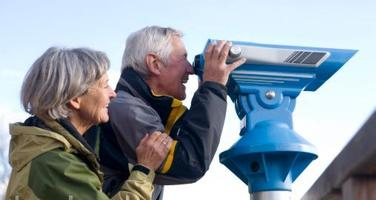person: (86, 26, 246, 200)
